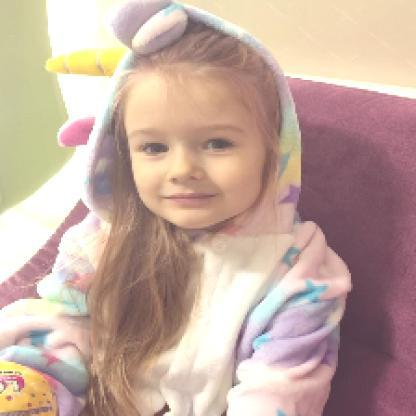child: (1, 1, 356, 415)
